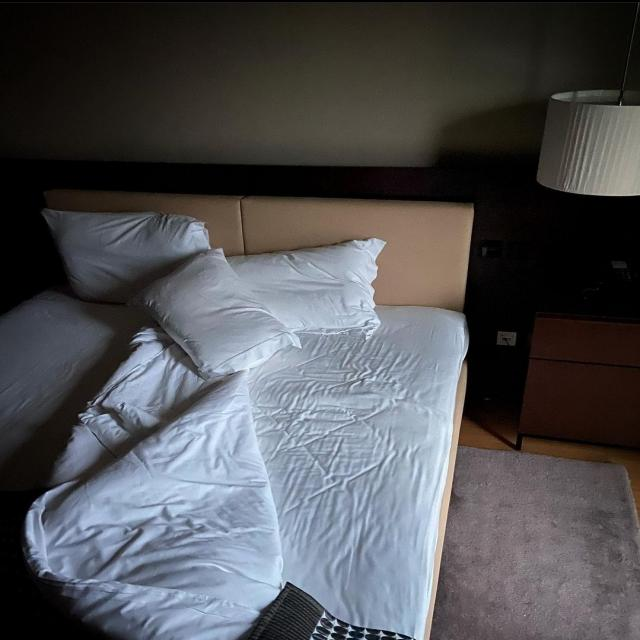bed: (0, 184, 495, 640)
